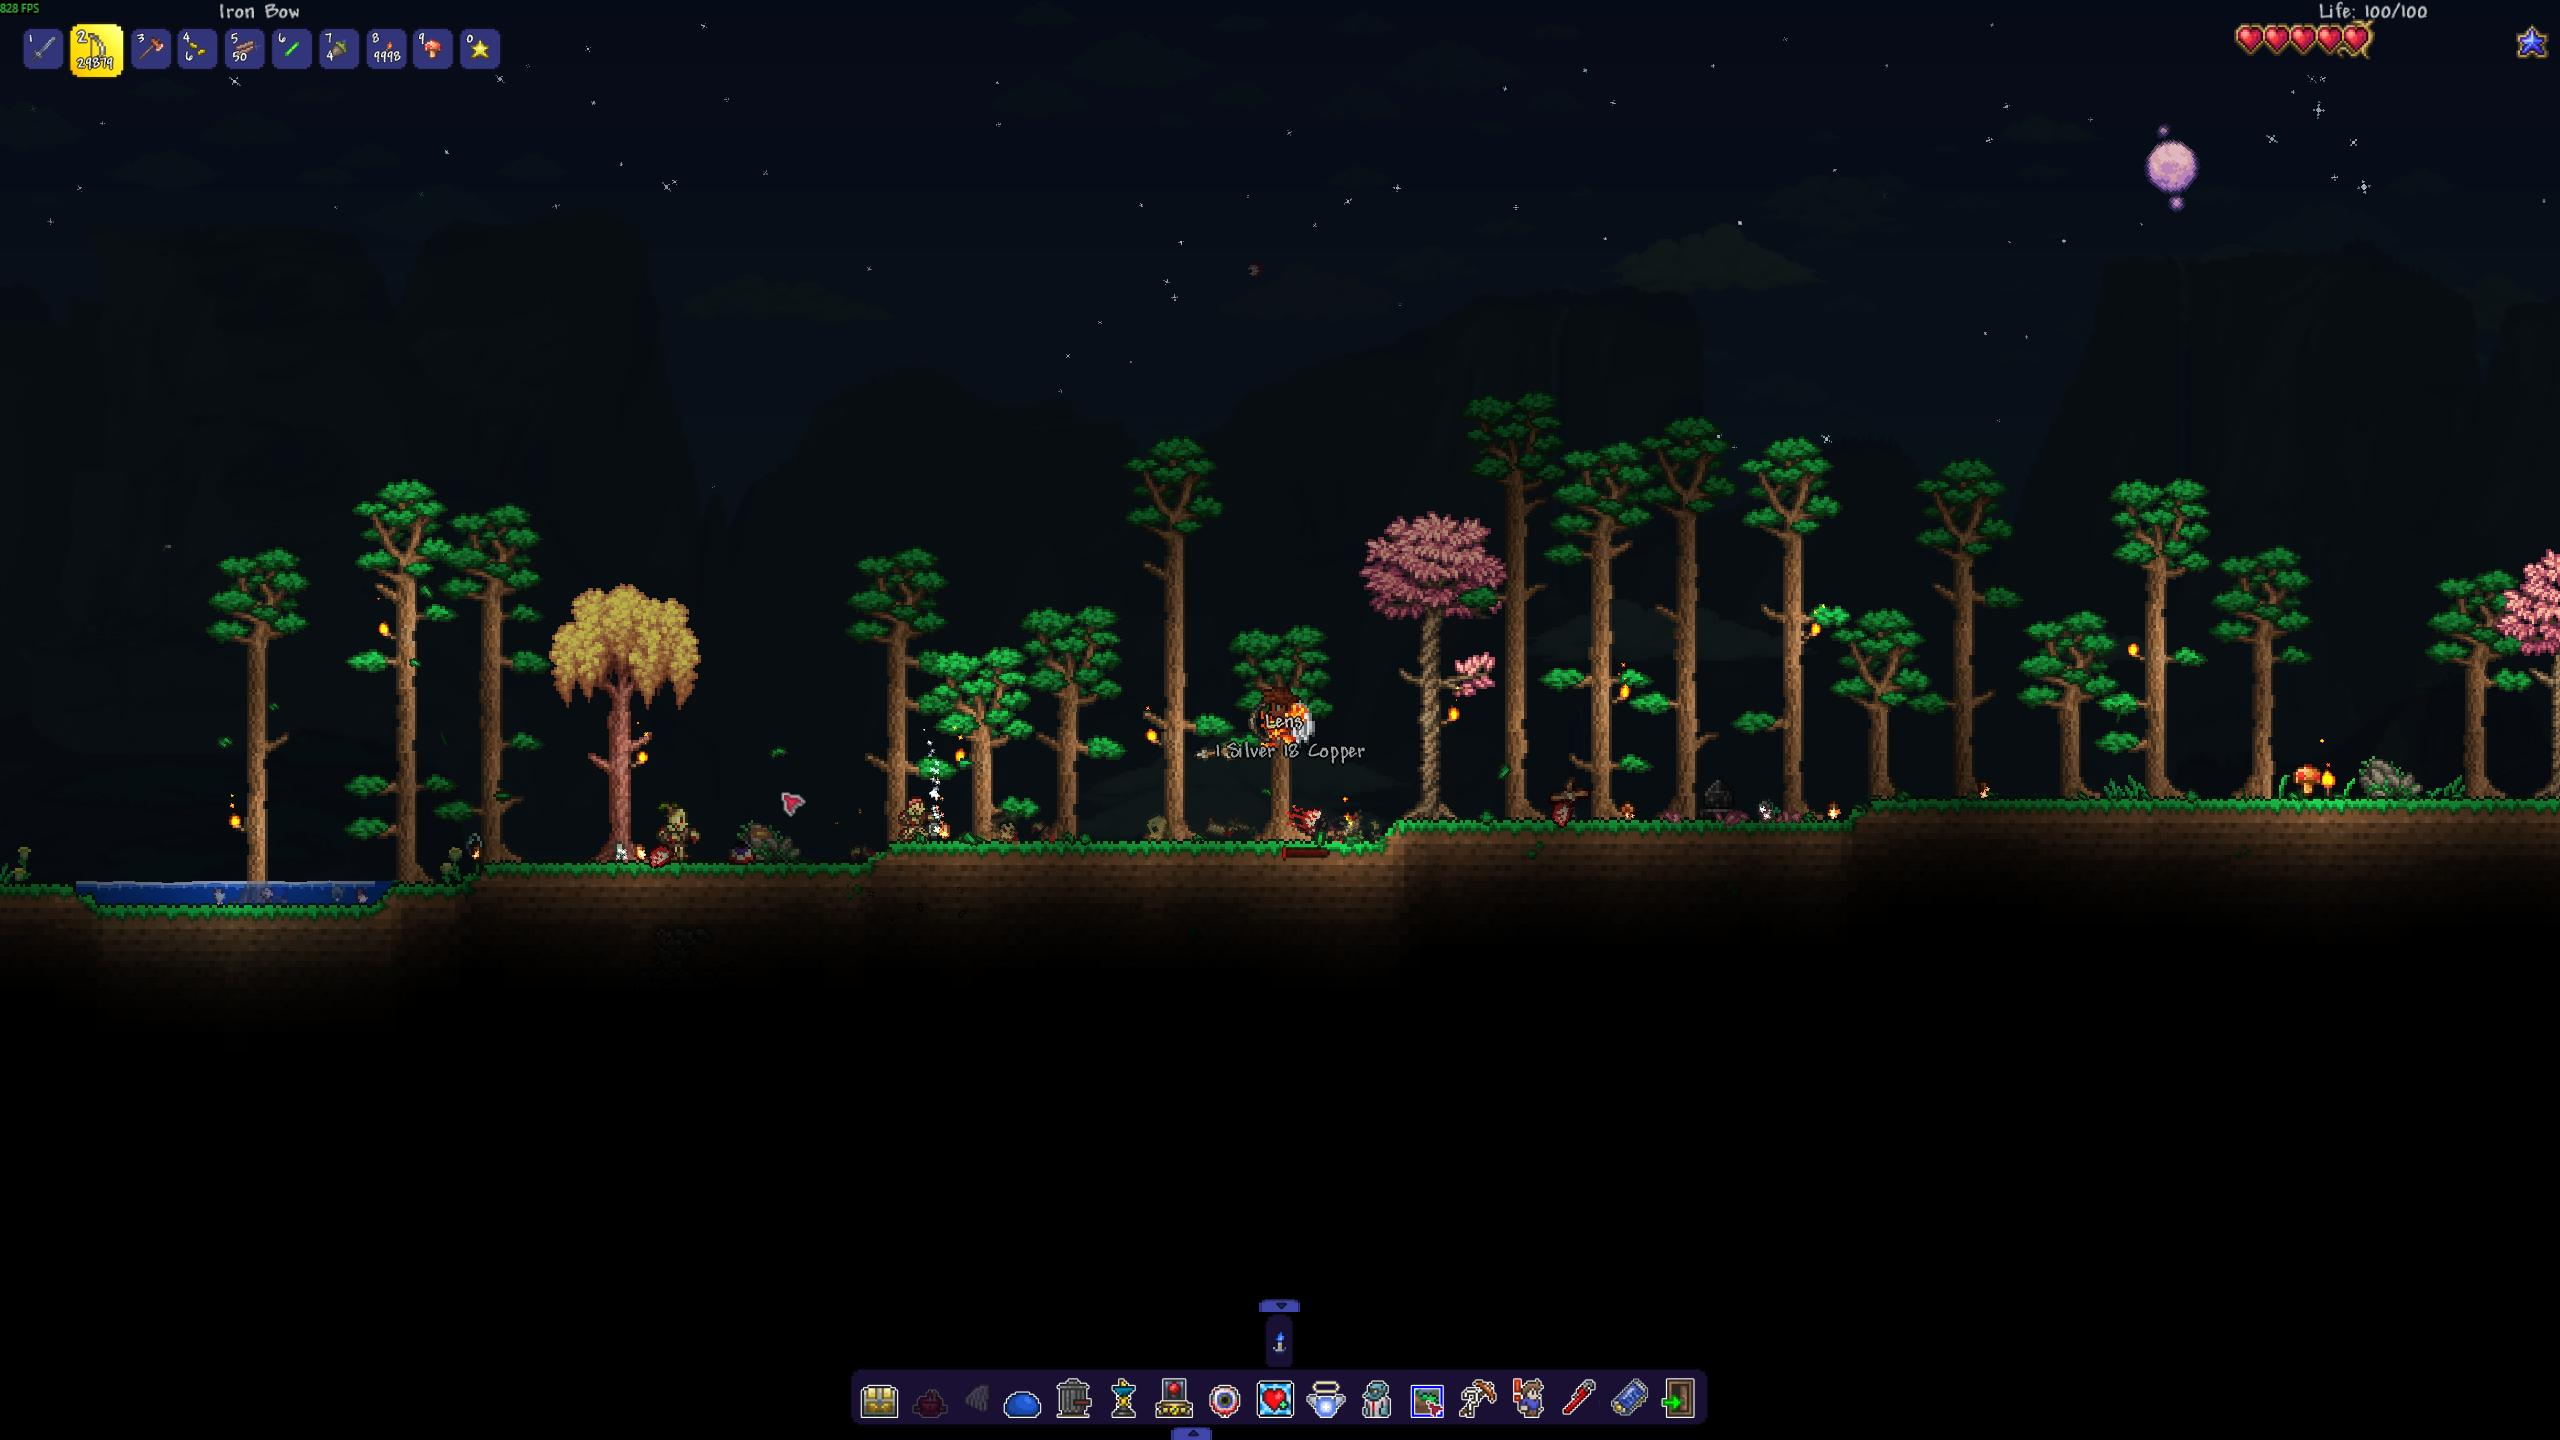Demon Eye: (1280, 795, 1333, 840)
Zombie: (652, 795, 705, 863), (898, 793, 932, 842)
